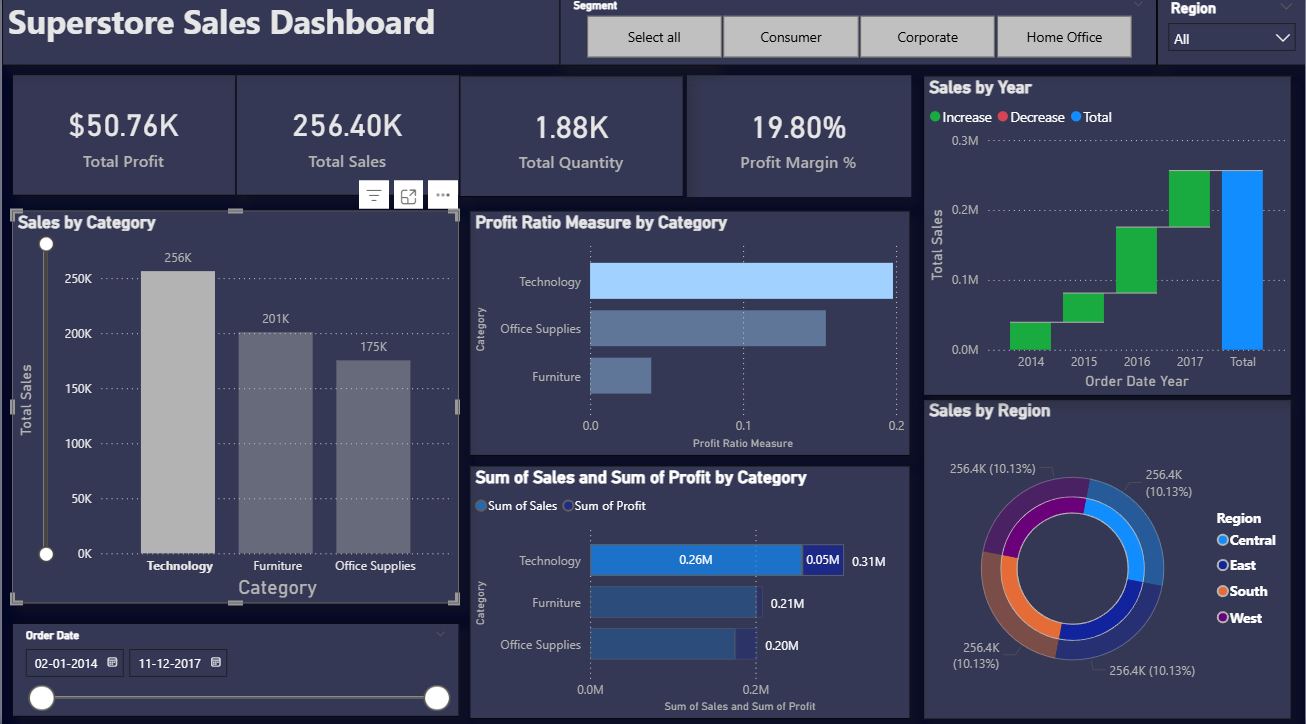

The dashboard page shown, as its layout file describes it:
{"tool":"powerbi","page":{"name":"Page 4","canvas":[1280,720],"ordinal":3},"visuals":[{"type":"card","fields":{"Values":["Store.Total Profit"]},"box":[9.8,79.8,219.6,119],"z":0},{"type":"card","fields":{"Values":["Store.Total Sales"]},"box":[229.4,79.8,219.6,119],"z":1000},{"type":"card","fields":{"Values":["Store.Profit Margin %"]},"box":[672.4,81,219.6,119],"z":2000},{"type":"card","fields":{"Values":["Customer Details.Total Quantity"]},"box":[449.1,81,219.6,119],"z":3000},{"type":"textbox","box":[0,0,694.5,71.2],"z":4000},{"type":"columnChart","title":"Sales by Category","fields":{"Category":["Product Details.Category"],"Y":["Store.Total Sales"]},"box":[9.8,213.5,439.3,386.5],"z":5000},{"type":"donutChart","title":" Sales by Region","fields":{"Category":["Location Details.Region"],"Y":["Store.Total Sales"]},"box":[904.3,398.8,362,314.1],"z":6000},{"type":"waterfallChart","title":" Sales by Year","fields":{"Category":["Store.Order Date.Variation.Date Hierarchy.Year","Store.Order Date.Variation.Date Hierarchy.Quarter","Store.Order Date.Variation.Date Hierarchy.Month","Store.Order Date.Variation.Date Hierarchy.Day"],"Y":["Store.Total Sales"]},"box":[904.3,81,362,314.1],"z":7000},{"type":"barChart","fields":{"Category":["Product Details.Category"],"Y":["Store.Profit Ratio Measure"]},"box":[458.9,213.5,433.1,240.5],"z":8000},{"type":"slicer","fields":{"Values":["Customer Details.Segment"]},"box":[547.2,0,586.5,71.2],"z":9000},{"type":"slicer","fields":{"Values":["Location Details.Region"]},"box":[1133.5,0,146.8,71.4],"z":10000},{"type":"slicer","fields":{"Values":["Store.Order Date"]},"box":[9.6,618.9,439.1,91.9],"z":11000},{"type":"barChart","fields":{"Category":["Product Details.Category"],"Y":["Sum(Store.Sales)","Sum(Store.Profit)"]},"box":[458.9,463.8,433.1,249.1],"z":12000}]}

Visuals, with their boxes in screenshot pixels (x1, y1, x2, y2), scaled from the page's 1280x720 canvas onto the 1306x724 screenshot:
card - Store.Total Profit: region(10, 80, 234, 200)
card - Store.Total Sales: region(234, 80, 458, 200)
card - Store.Profit Margin %: region(686, 81, 910, 201)
card - Customer Details.Total Quantity: region(458, 81, 682, 201)
textbox: region(0, 0, 709, 72)
"Sales by Category" columnChart: region(10, 215, 458, 603)
" Sales by Region" donutChart: region(923, 401, 1292, 717)
" Sales by Year" waterfallChart: region(923, 81, 1292, 397)
barChart - Product Details.Category x Store.Profit Ratio Measure: region(468, 215, 910, 457)
slicer - Customer Details.Segment: region(558, 0, 1157, 72)
slicer - Location Details.Region: region(1157, 0, 1305, 72)
slicer - Store.Order Date: region(10, 622, 458, 715)
barChart - Product Details.Category x Sum(Store.Sales): region(468, 466, 910, 717)
